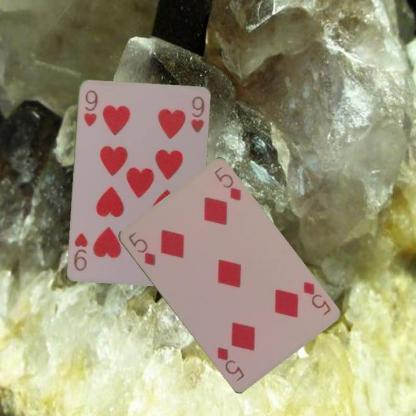5d: (299, 278, 332, 317), (124, 229, 157, 267)
9h: (80, 87, 99, 127)
